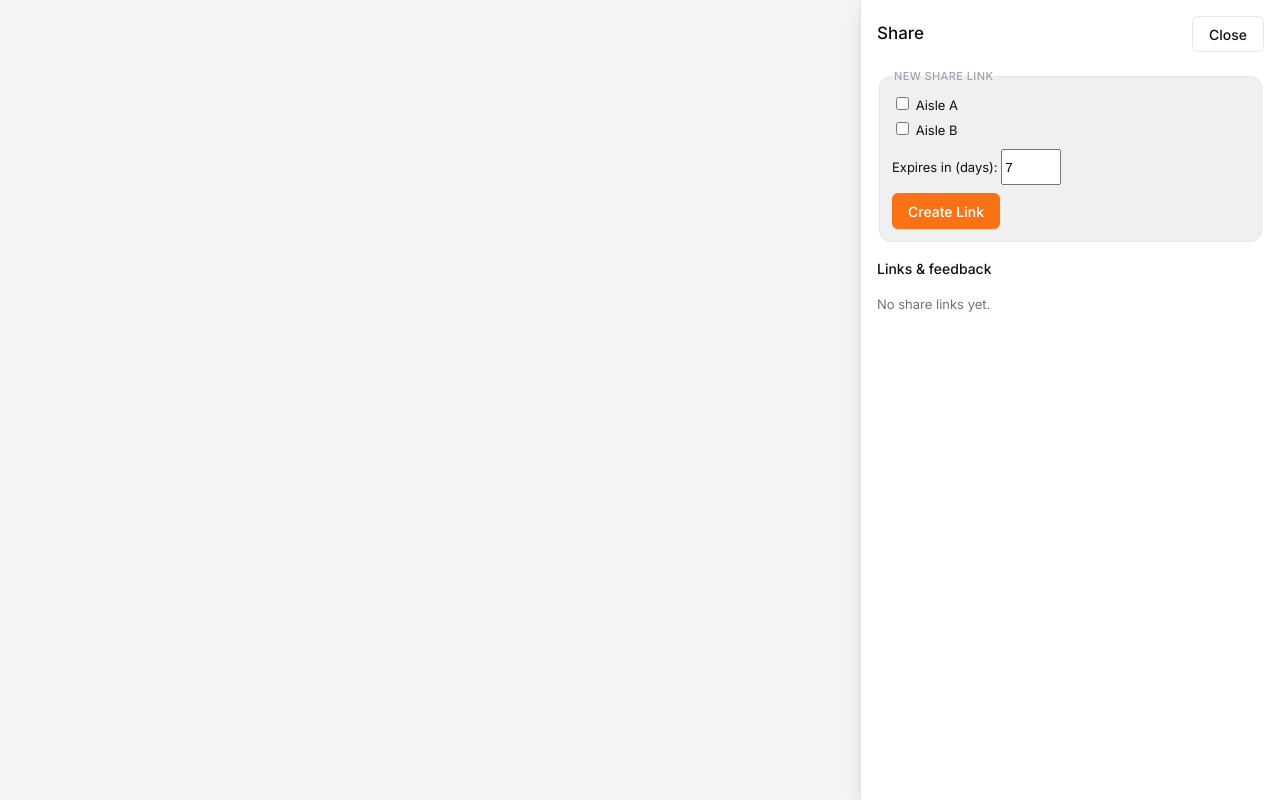
Test: SharePanel — Spec §6.3a/§6.6b: share link creation/management + feedback viewer › refuses to create a link with no layouts selected, surfacing an error
Expected: the text "Aisle A" is shown, [896,97,958,113]
Click the button "Create Link": [946, 211] box [892,193,1000,229]
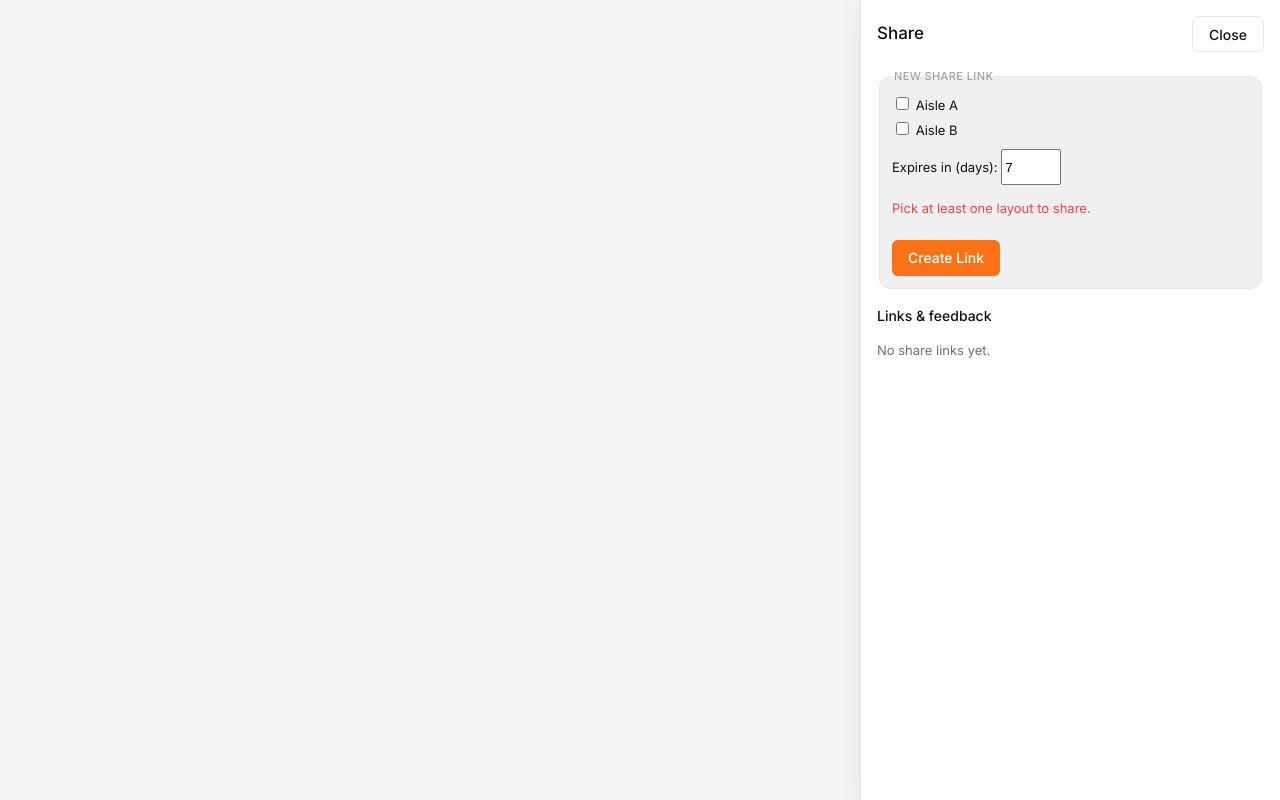
Result: the text "Pick at least one layout to share." is shown at [892,200,1091,216]
